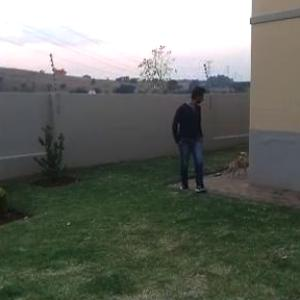follow: (174, 77, 210, 200)
